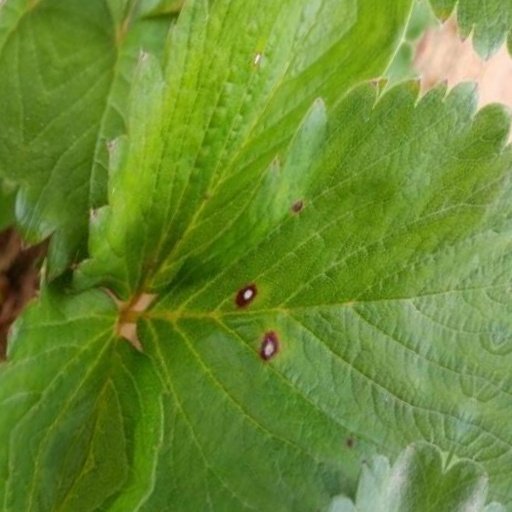Leaf Spot: (168, 11, 511, 511), (69, 0, 313, 363)
